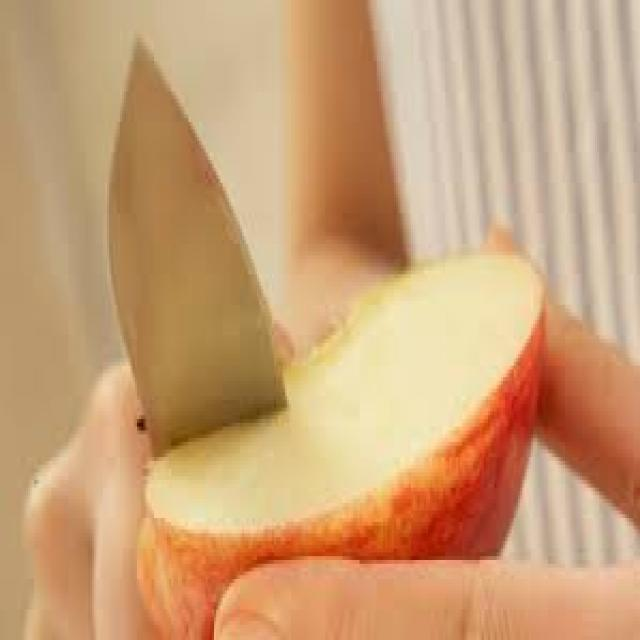organic waste: (135, 244, 544, 636)
